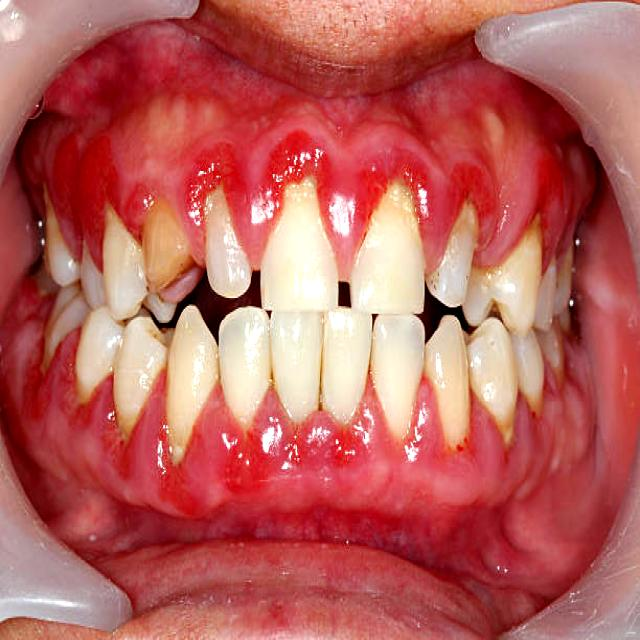gingivitis: (25, 345, 553, 538), (46, 121, 573, 253)
